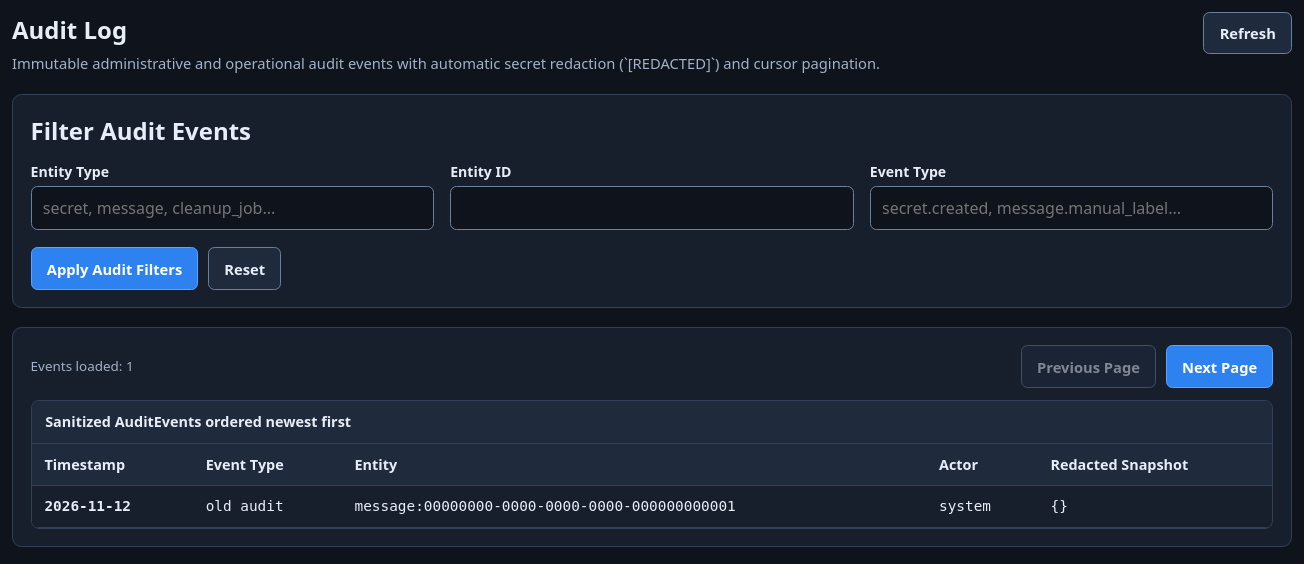
Test: PR30 regressions grounded in current backend serializers/HTTP DTOs › Audit ignores late filtered pages and keeps current pagination
Expected: the text "old audit" is shown, [193,486,342,528]
Click the button "Next Page" at [1220, 366], box [1166,345,1273,388]
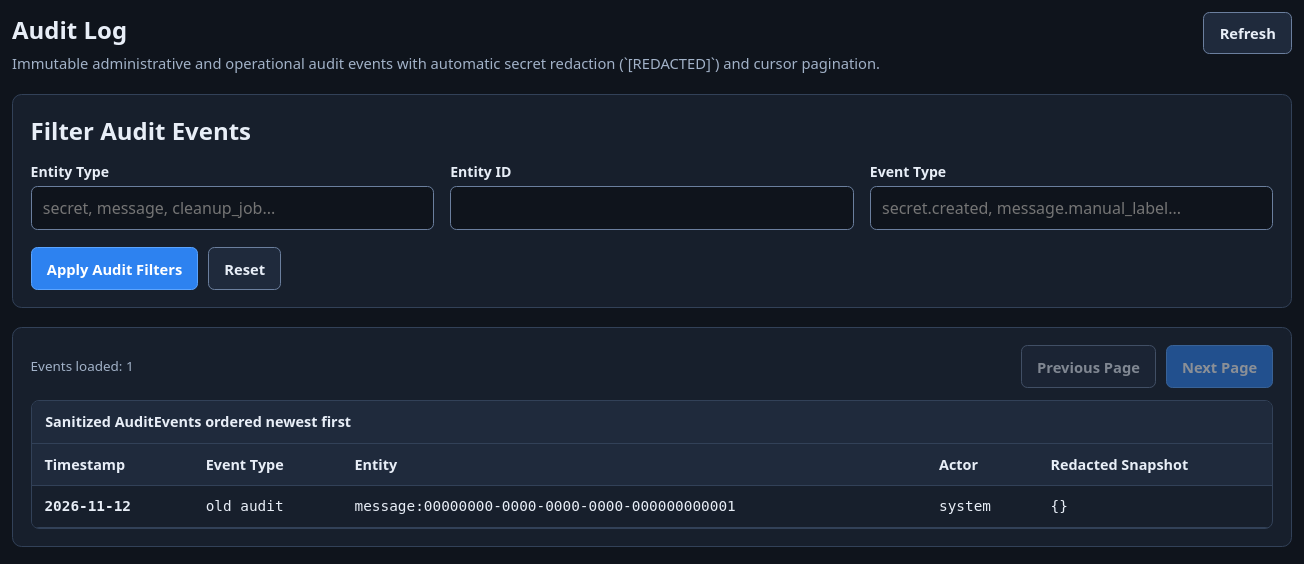
Type "current audit" into the field labelled "Event Type" at [1072, 208], box [870,186,1273,230]
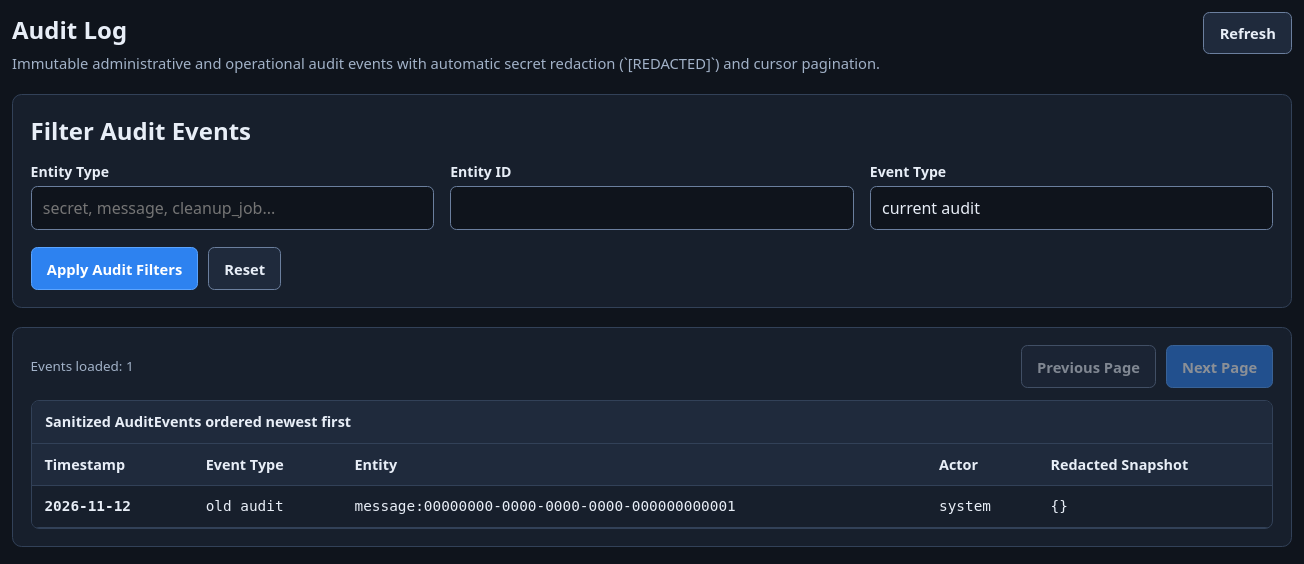
Submit the form labelled "Event Type", box [31,161,1273,290]
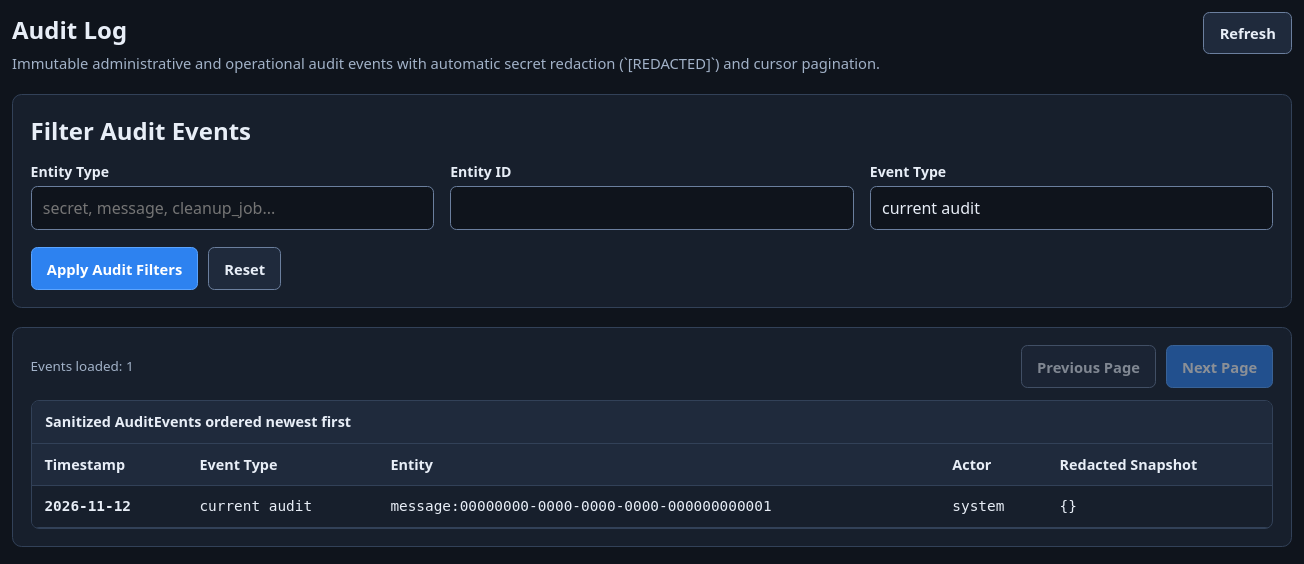
Expected: the button "Previous Page" is disabled, [1021,345,1156,388]
Expected: the text "current audit" is shown, [187,486,378,528]
